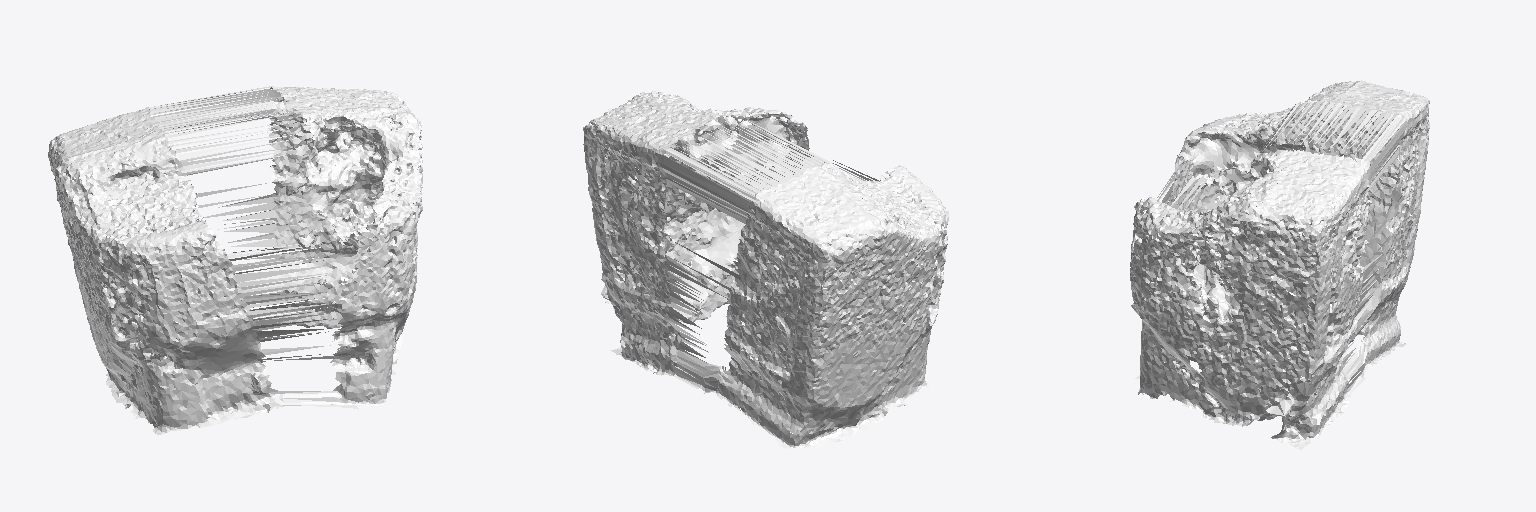
Rendered from tv_modify.obj.
3 renders of one model, left to right at view 1: azimuth 30°, elevation 25°; view 2: azimuth 150°, elevation 25°; view 3: azimuth 270°, elevation 25°, orthographic.
Parts seen in each view (by area): view 1: tv; view 2: tv; view 3: tv.
Boxes of the visible parts, <box> form: tv: <box>48,86,422,434</box>; tv: <box>583,90,948,449</box>; tv: <box>1130,80,1429,449</box>.
Bounding box in the file's own units: 3.8 × 2.84 × 2.96.